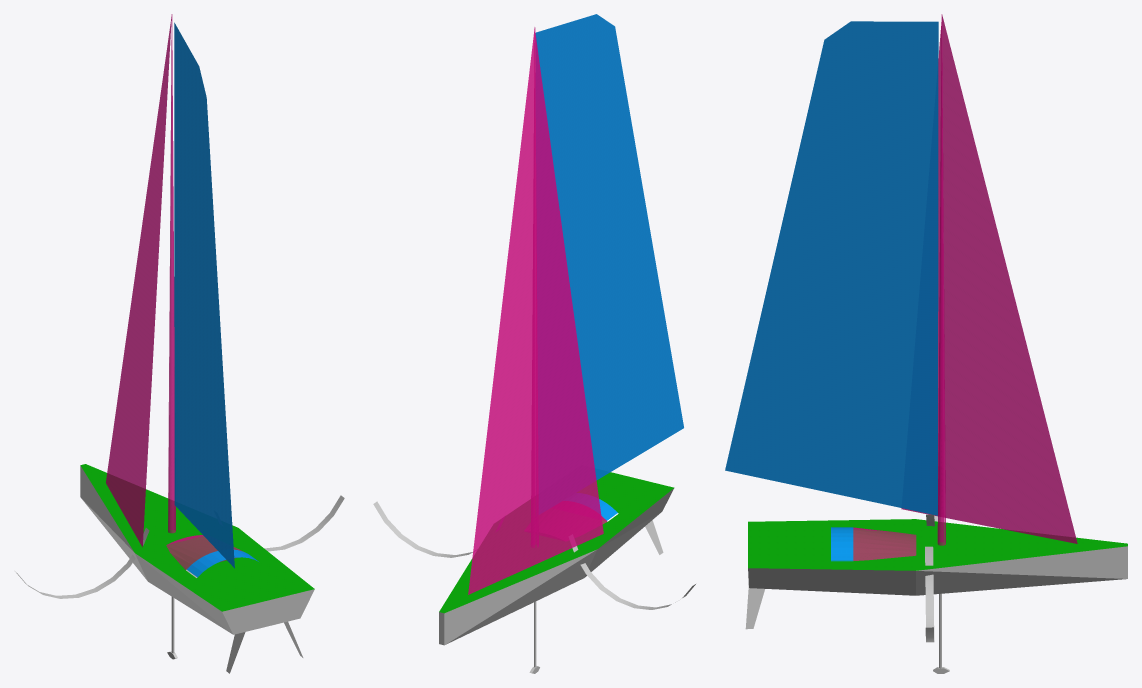
The model's file is IMOCA_FOC_TRIBORD.dae.
3 views of the same model, side by side, from view 1: azimuth 30°, elevation 25°; view 2: azimuth 150°, elevation 25°; view 3: azimuth 270°, elevation 25° (orthographic). The views are drawn at different scales.
Visible parts, largest first — view 1: SketchUp (×9); view 2: SketchUp (×7); view 3: SketchUp (×8).
Boxes of the visible parts, x1,y1,x2,y2 form: SketchUp (×9): (15,14,344,634); SketchUp (×7): (373,14,695,645); SketchUp (×8): (725,14,1127,642).
Bounding box in the file's own units: 71165 × 75157 × 135626.
